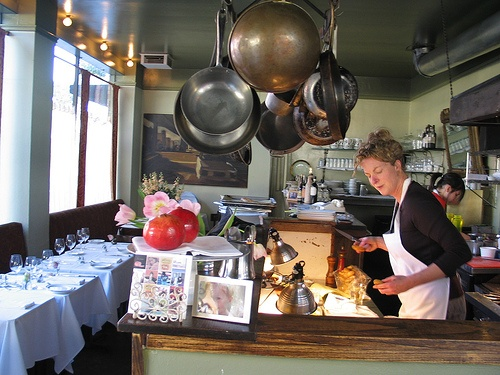head: (356, 130, 409, 204), (430, 170, 463, 207)
person: (349, 130, 469, 319)
